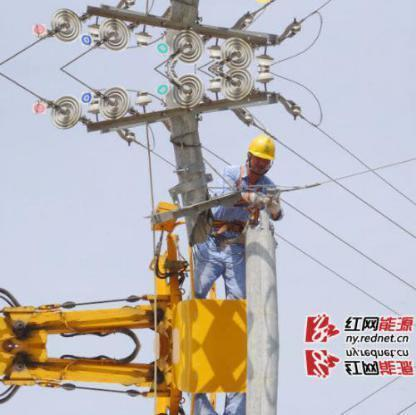helmet: (243, 133, 282, 163)
